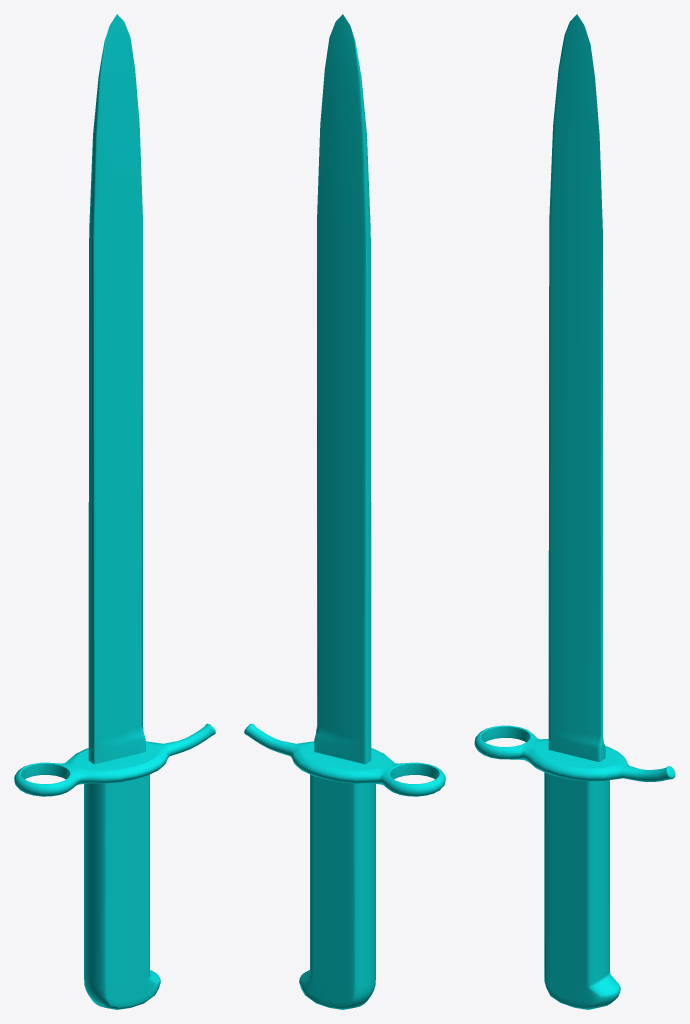
File: Bayonet.fbx
3 renders of one model, left to right at view 1: azimuth 30°, elevation 25°; view 2: azimuth 150°, elevation 25°; view 3: azimuth 330°, elevation 25°, orthographic.
Parts seen in each view (by area): view 1: Bayonet; view 2: Bayonet; view 3: Bayonet.
Part boxes in pixels (x1,y1,x2,y2): Bayonet: [14, 14, 215, 1009]; Bayonet: [244, 14, 445, 1009]; Bayonet: [474, 14, 675, 1009].
Bounding box in the file's own units: 8.32 × 40.15 × 2.76.
